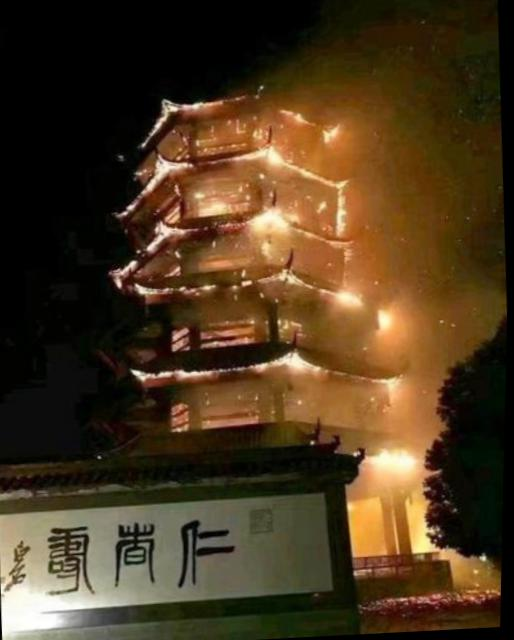fire: (114, 77, 417, 430)
